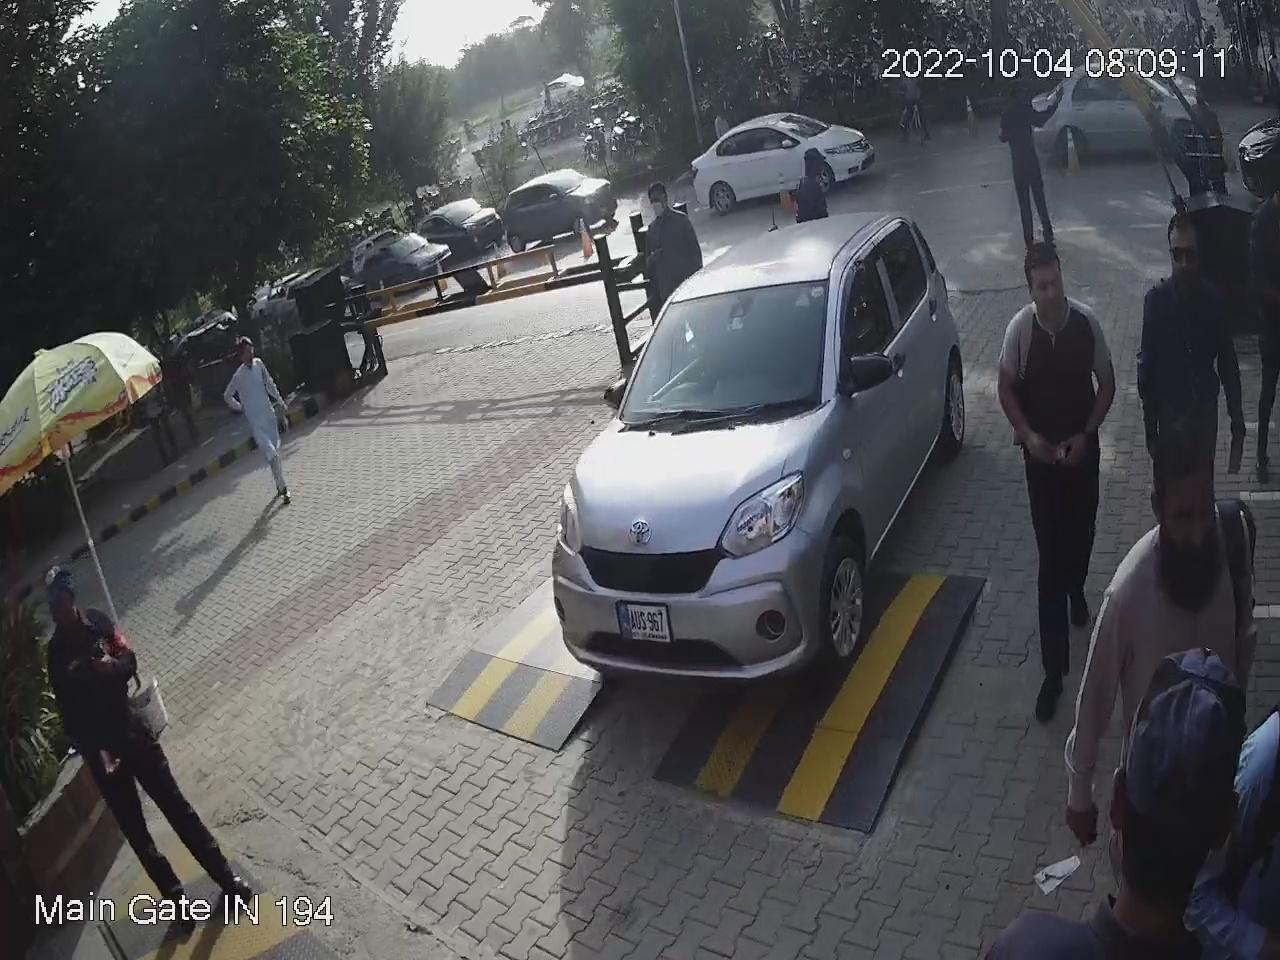windshield: (621, 272, 834, 419)
